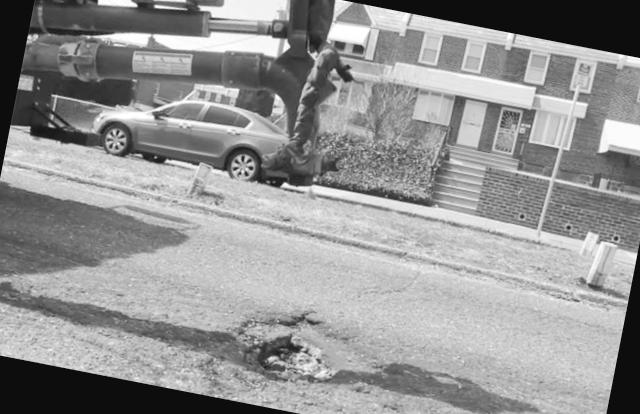Pothole: (198, 278, 393, 414)
